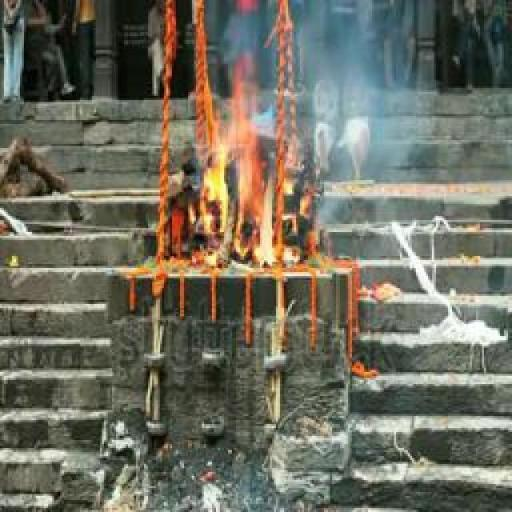smoke: (207, 74, 291, 266)
